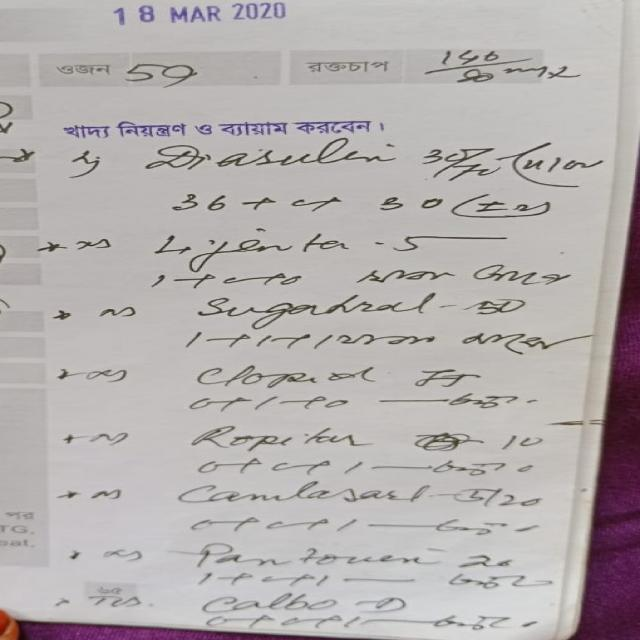Calbo D: (186, 592, 431, 617)
Camlosart: (176, 478, 434, 510)
Clopixol: (185, 366, 386, 389)
Diasulin: (141, 142, 418, 175)
Lijenta: (134, 228, 359, 261)
Pantonix: (180, 538, 448, 574)
Ropitor: (180, 421, 377, 454)
Sugatrol: (175, 291, 442, 322)
